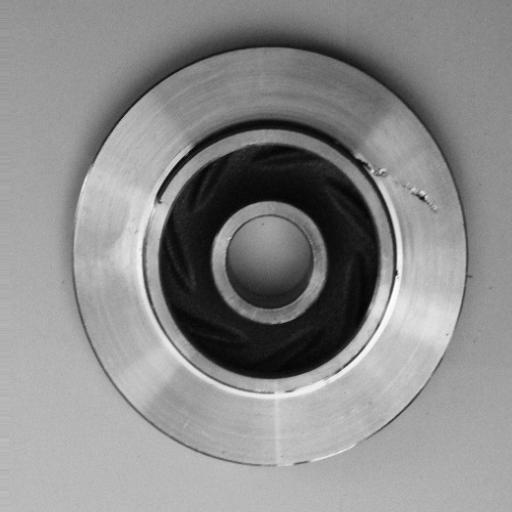crack: (353, 146, 440, 211)
scratch: (260, 369, 342, 406)
unpolished_casting: (70, 44, 471, 471)
